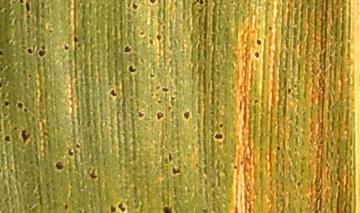tarspot: (178, 107, 195, 122), (20, 125, 32, 146), (120, 41, 135, 57), (158, 200, 175, 213), (125, 62, 140, 76), (211, 129, 226, 143), (104, 87, 120, 100), (153, 109, 167, 123), (170, 163, 184, 177), (23, 43, 36, 57), (86, 167, 100, 180), (292, 177, 305, 191), (132, 109, 147, 121), (37, 43, 48, 59), (53, 159, 66, 172), (153, 30, 166, 43), (22, 1, 34, 15), (128, 1, 142, 13), (158, 84, 171, 96), (14, 98, 25, 112), (105, 203, 120, 213), (253, 36, 266, 47), (72, 141, 82, 155), (69, 34, 80, 45), (65, 147, 76, 158), (62, 42, 72, 54), (249, 97, 261, 107), (1, 98, 11, 109), (118, 201, 128, 212), (283, 84, 292, 96), (147, 71, 157, 81), (252, 50, 262, 60), (230, 162, 241, 171), (3, 133, 11, 145), (62, 200, 71, 210), (195, 1, 210, 7), (1, 46, 7, 60), (199, 205, 209, 213), (11, 123, 18, 134), (274, 143, 283, 151), (146, 1, 159, 6)
